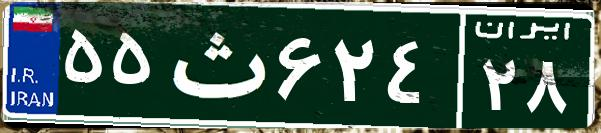2: (330, 28, 385, 110), (475, 38, 525, 113)
4: (385, 28, 445, 110)
5: (57, 26, 110, 107), (110, 28, 158, 105)
6: (273, 28, 330, 110)
8: (525, 38, 570, 115)
ث: (158, 15, 273, 115)
